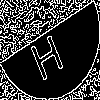H: (25, 24, 66, 82)
